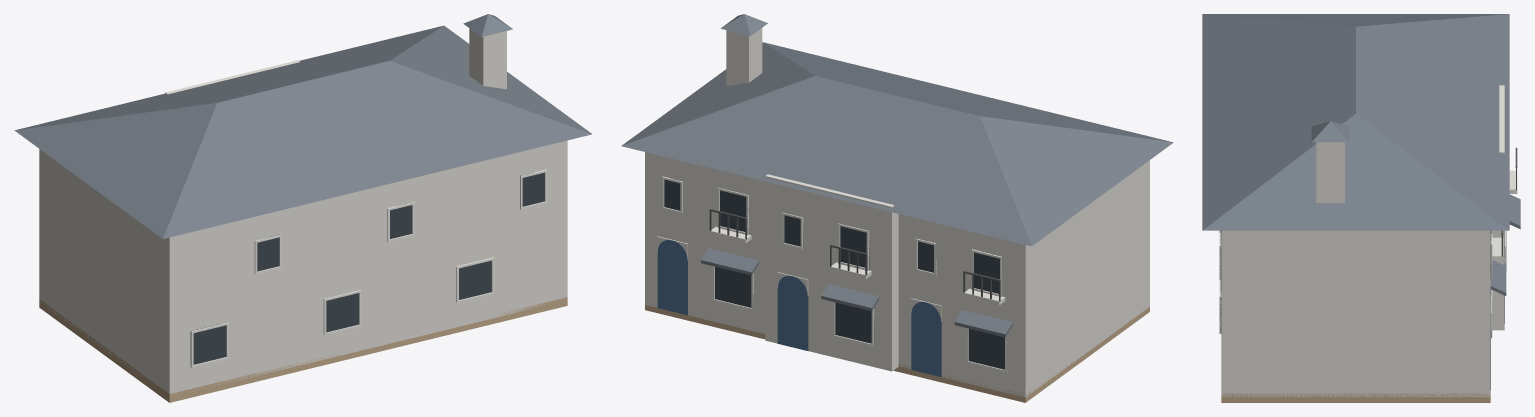
The model's file is ca_townhouse.glb.
The picture shows the model from 3 angles, left to right: view 1: azimuth 30°, elevation 25°; view 2: azimuth 150°, elevation 25°; view 3: azimuth 270°, elevation 25°; orthographic projection. The views are drawn at different scales.
Parts seen in each view (by area): view 1: ca_townhouse; view 2: ca_townhouse; view 3: ca_townhouse.
Boxes of the visible parts, <box> form: ca_townhouse: <box>14,14,592,402</box>; ca_townhouse: <box>621,14,1173,402</box>; ca_townhouse: <box>1202,14,1520,402</box>.
Size of the model in its own units: 16.2 by 9.35 by 10.05.
